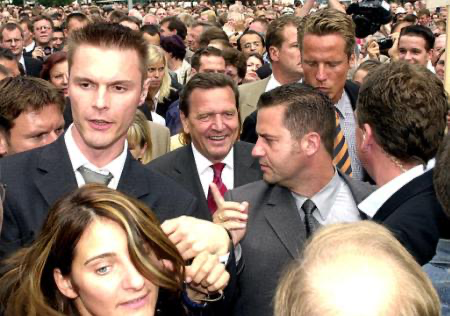Face: (78, 226, 167, 306), (69, 60, 149, 148), (250, 103, 301, 194), (188, 81, 245, 159), (300, 31, 348, 104), (6, 107, 68, 152), (280, 27, 306, 76), (50, 61, 77, 99), (400, 34, 429, 69), (144, 54, 170, 89), (242, 53, 265, 89), (0, 26, 28, 54), (239, 29, 270, 54), (31, 17, 55, 44), (147, 60, 166, 91), (201, 54, 228, 74), (185, 25, 205, 52), (433, 45, 447, 80), (48, 27, 66, 50), (414, 10, 430, 26), (153, 5, 168, 19)
